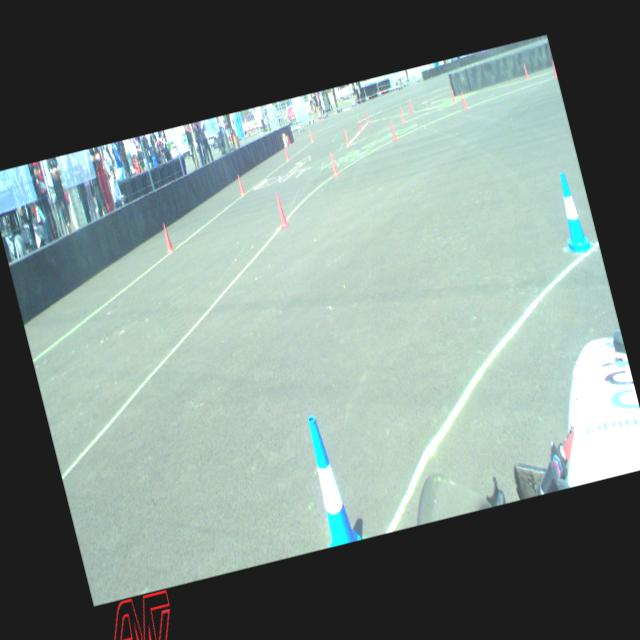blue_cone: (297, 411, 361, 547), (548, 169, 594, 256)
unknown_cone: (272, 192, 289, 228), (160, 222, 174, 252), (327, 150, 339, 176), (236, 173, 246, 195), (388, 120, 398, 140), (342, 128, 350, 146), (459, 91, 467, 109), (282, 144, 290, 160), (398, 106, 406, 122), (550, 60, 556, 78), (522, 64, 529, 79), (407, 100, 413, 114), (357, 116, 362, 132), (450, 89, 456, 102), (308, 129, 313, 142), (364, 110, 369, 122)
